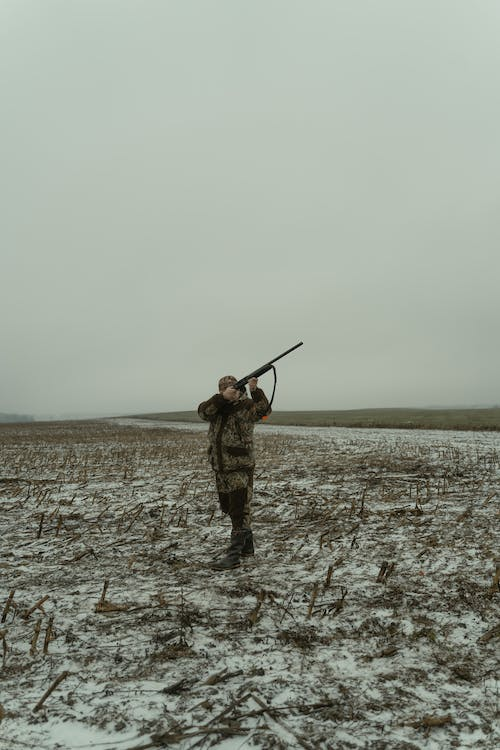gun: (232, 337, 306, 392)
